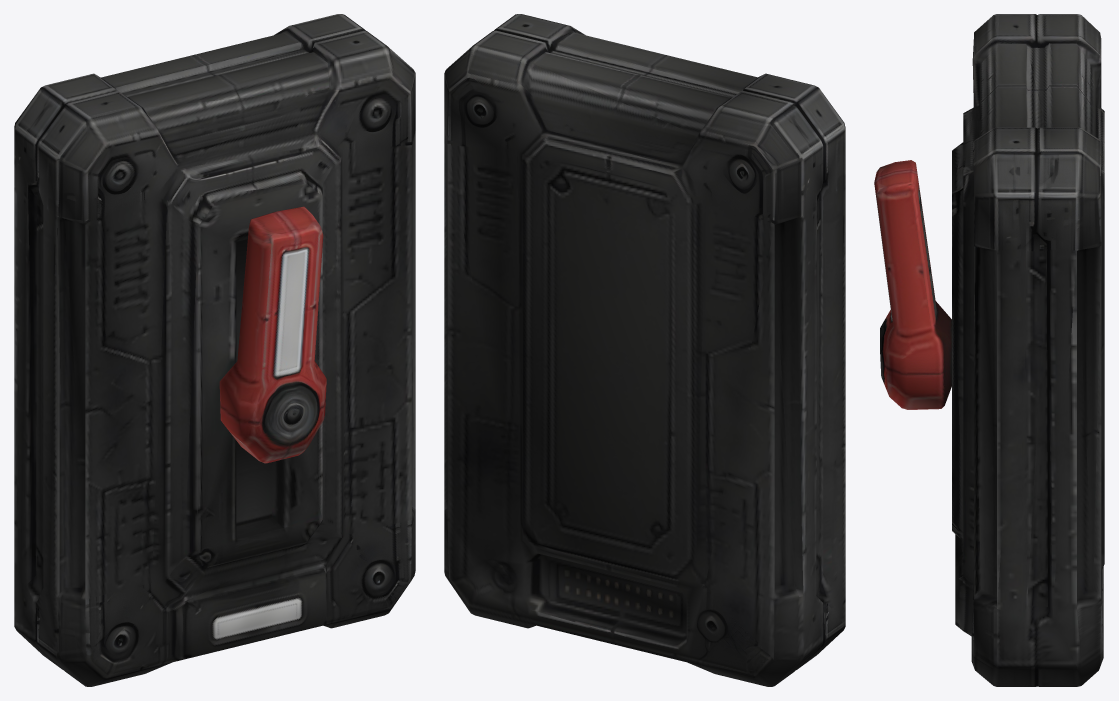
Rendered from LeverSwitch.fbx.
The picture shows the model from 3 angles, left to right: view 1: azimuth 30°, elevation 25°; view 2: azimuth 150°, elevation 25°; view 3: azimuth 270°, elevation 25°; orthographic projection. The views are drawn at different scales.
Parts seen in each view (by area): view 1: LeverBase, Lever; view 2: LeverBase; view 3: LeverBase, Lever.
Part boxes in pixels (bbox=[...]): LeverBase: bbox=[14, 14, 415, 686]; Lever: bbox=[219, 206, 326, 463]; LeverBase: bbox=[444, 14, 845, 686]; LeverBase: bbox=[952, 14, 1104, 686]; Lever: bbox=[874, 160, 951, 409].
Size of the model in its own units: 0.6582 by 0.998 by 0.3887.
